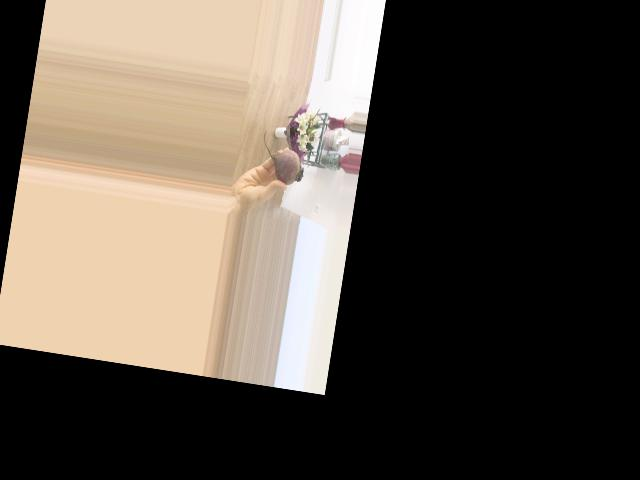beet: (257, 129, 309, 186)
